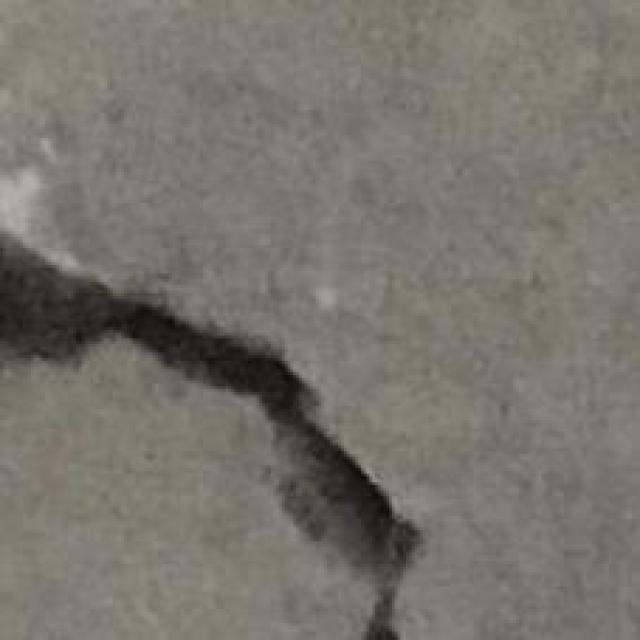Diagonal: (0, 227, 426, 640)
